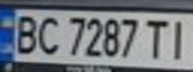2: (81, 14, 106, 58)
7: (63, 14, 87, 57), (118, 15, 142, 58)
8: (103, 15, 124, 58)
B: (9, 11, 42, 55)
C: (33, 12, 63, 56)
I: (163, 16, 193, 61)
T: (139, 16, 172, 60)
